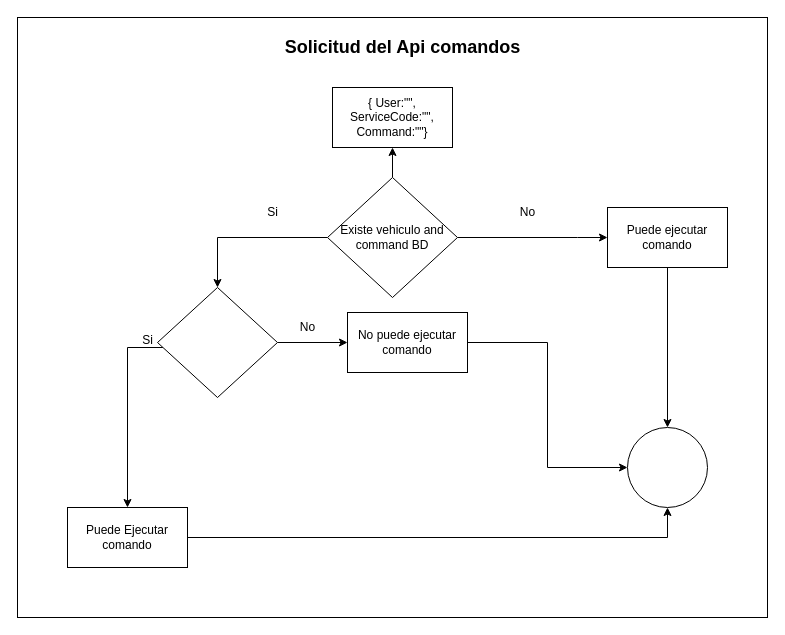
The diagram is 785 pixels wide and 635 high, and some of its shapes have lost their labels. The shapes that lost their labels are listed below. From the top down, each one's box as (x1, y1, x2, y2) in pixels, then its label:
(156, 286, 278, 398): Useuario tiene permisos
(626, 426, 708, 508): Fin
